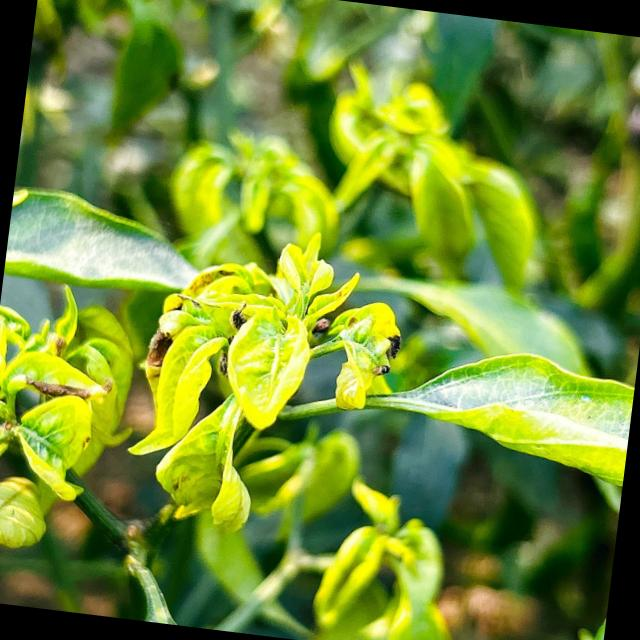Chilli_Leaf_Curl: (0, 183, 640, 621), (118, 212, 413, 550), (275, 322, 636, 486), (310, 62, 554, 298), (0, 275, 146, 560), (306, 476, 475, 640), (3, 182, 208, 301), (148, 385, 264, 534), (217, 302, 316, 434)
